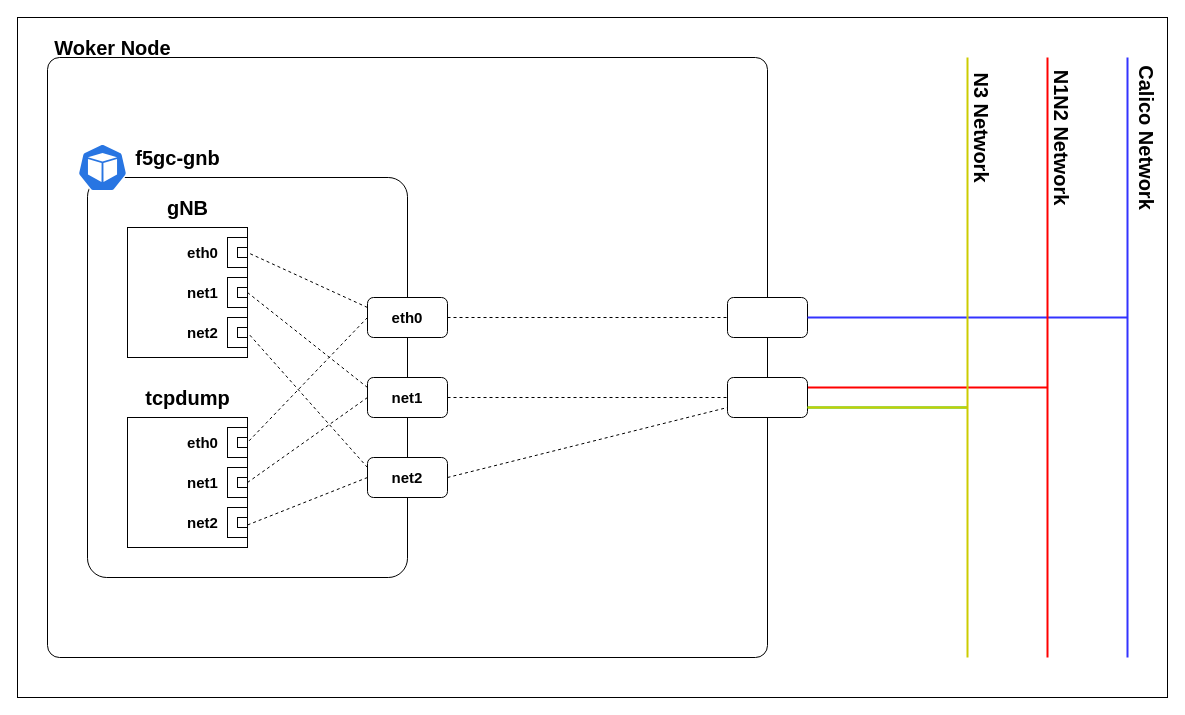
The diagram is 1185 pixels wide and 715 high, and some of its shapes have lost their labels. The shapes that lost their labels are listed below. From the top down, each one's centre as x and y in pixels, then its label:
At point 767,317: "calixxx".
At point 767,397: "eth1".
